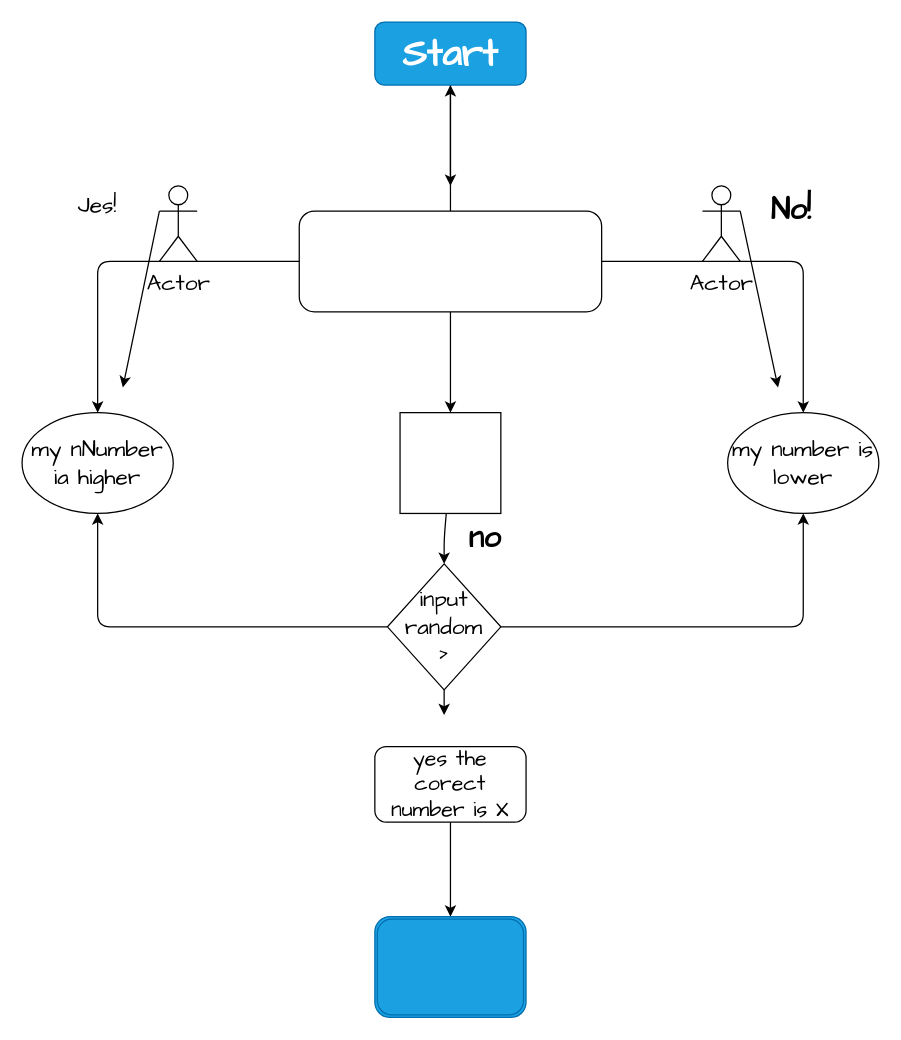
This 901x1040 diagram has some shape labels left out. Here are the shapes that lost their labels. From the top down, the centre of each, then its label:
(450,261): Input = Number
(450,462): random number
(450,966): End
